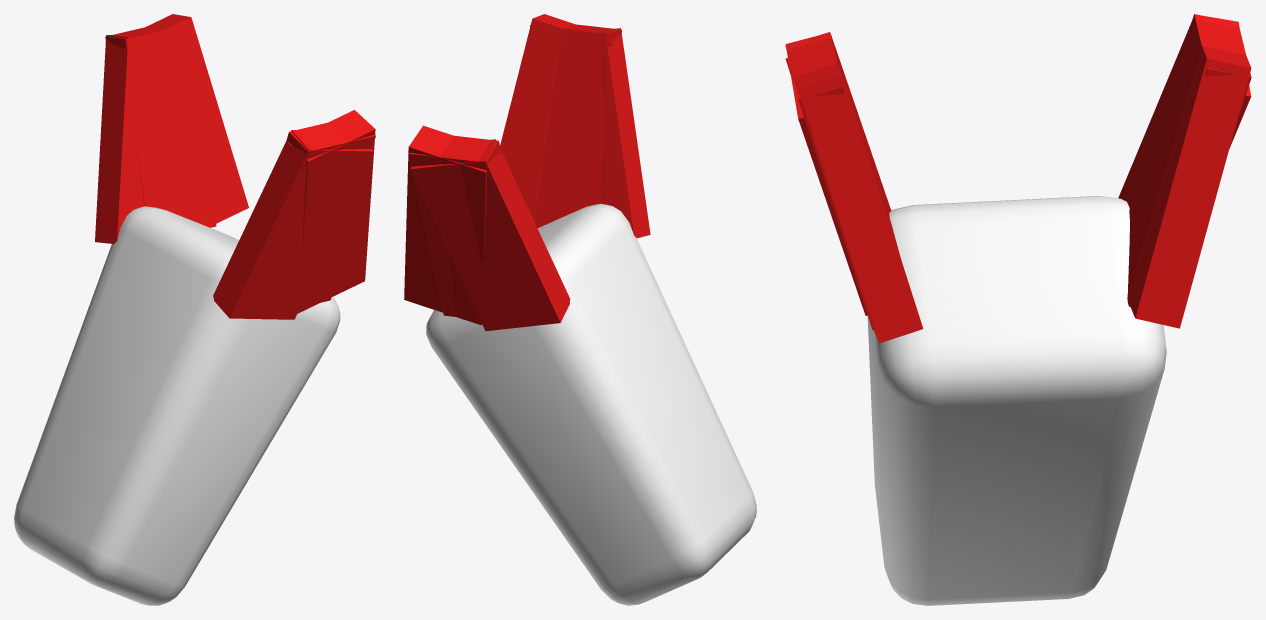
3 views of the same model, side by side, from view 1: azimuth 30°, elevation 25°; view 2: azimuth 150°, elevation 25°; view 3: azimuth 270°, elevation 25° (orthographic). The views are drawn at different scales.
Parts seen in each view (by area): view 1: body, feather.003, feather.001, feather.002, feather, feather.005, feather.004; view 2: body, feather, feather.004, feather.005, feather.002, feather.003, feather.001; view 3: body, feather.002, feather.005, feather.001, feather.004, feather, feather.003.
Part boxes in pixels (left/top/right/bottom): body: left=14, top=206, right=340, bottom=605; feather.003: left=213, top=130, right=373, bottom=319; feather.001: left=105, top=27, right=216, bottom=227; feather.002: left=119, top=14, right=248, bottom=226; feather: left=95, top=35, right=144, bottom=243; feather.005: left=287, top=110, right=375, bottom=313; feather.004: left=286, top=122, right=375, bottom=302; body: left=426, top=203, right=756, bottom=605; feather: left=410, top=139, right=570, bottom=331; feather.004: left=530, top=24, right=621, bottom=228; feather.005: left=500, top=14, right=612, bottom=221; feather.002: left=404, top=125, right=500, bottom=325; feather.003: left=599, top=28, right=650, bottom=238; feather.001: left=408, top=135, right=500, bottom=316; body: left=867, top=196, right=1166, bottom=605; feather.002: left=1127, top=45, right=1251, bottom=328; feather.005: left=785, top=58, right=923, bottom=343; feather.001: left=1127, top=14, right=1251, bottom=306; feather.004: left=785, top=32, right=899, bottom=330; feather: left=1118, top=14, right=1251, bottom=208; feather.003: left=785, top=32, right=891, bottom=315.
Size of the model in its own units: 0.8424 by 1.36 by 0.9037.
